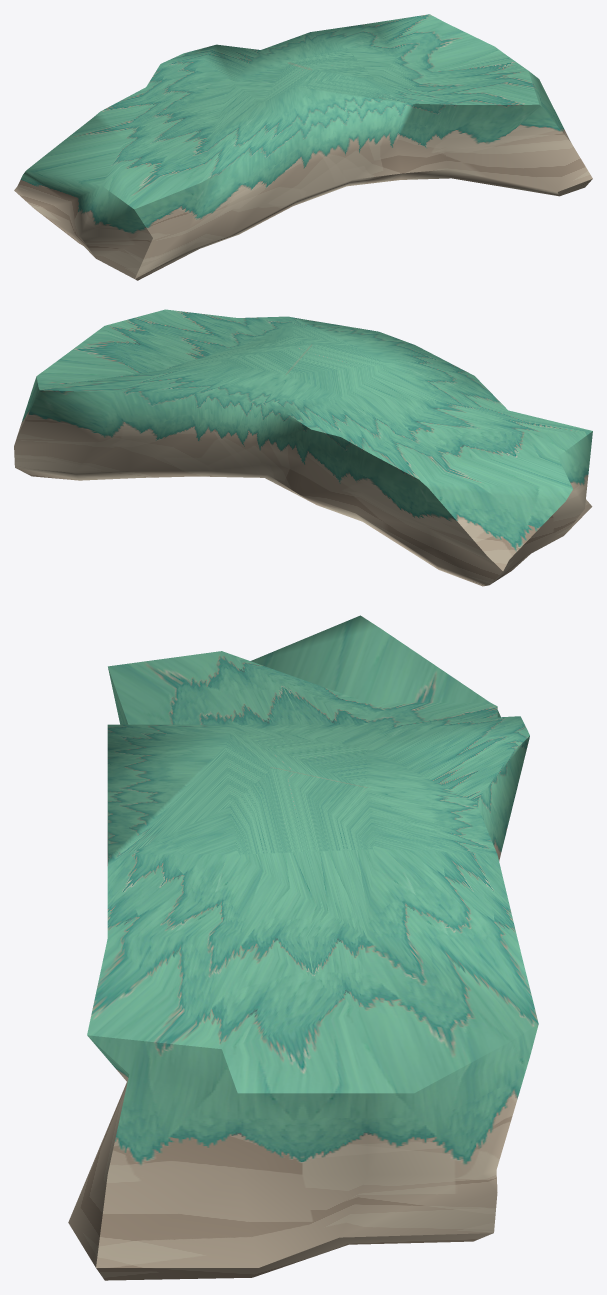
The model's file is Rock_Bridge.fbx.
The picture shows the model from 3 angles, top to bottom: view 1: azimuth 30°, elevation 25°; view 2: azimuth 150°, elevation 25°; view 3: azimuth 270°, elevation 25°; orthographic projection. The views are drawn at different scales.
Visible parts, largest first — view 1: pCube1; view 2: pCube1; view 3: pCube1.
Part boxes in pixels (x1,y1,x2,y2): pCube1: (14, 14, 592, 280); pCube1: (14, 309, 592, 586); pCube1: (68, 615, 538, 1280).
Bounding box in the file's own units: 30.54 × 8.37 × 12.43.
